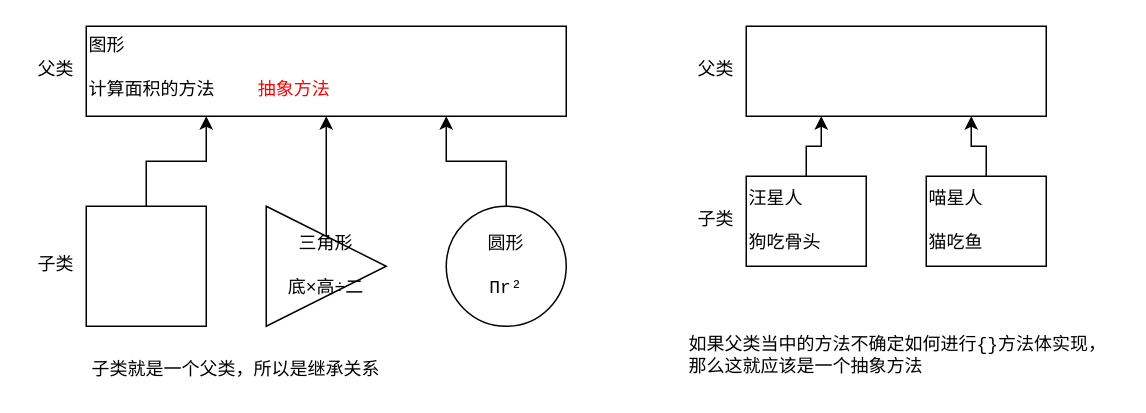
Image size: 1146x413. Some labels were removed from this diagram. The shapes that lost their labels are listed below. From the top down, each one's centre as x and y in pixels, then its label:
pixel 895 70: 动物 吃东西的方法 // 抽象方法
pixel 145 265: 正方形 长×宽
